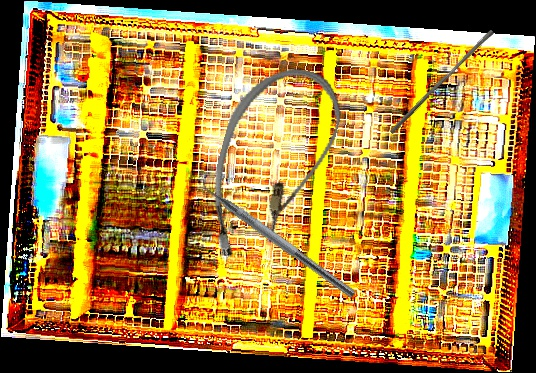Cannula: (194, 54, 351, 276)
Chopper: (188, 166, 364, 299)
Pusher: (389, 25, 495, 139)
